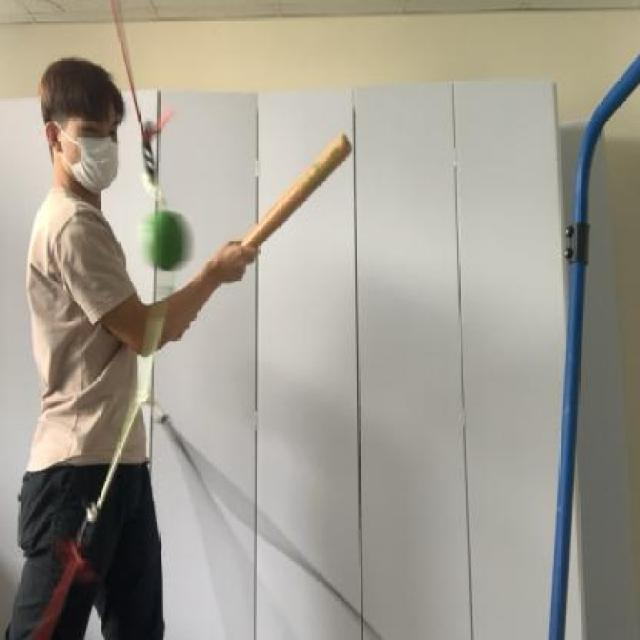baseball: (129, 201, 202, 287)
